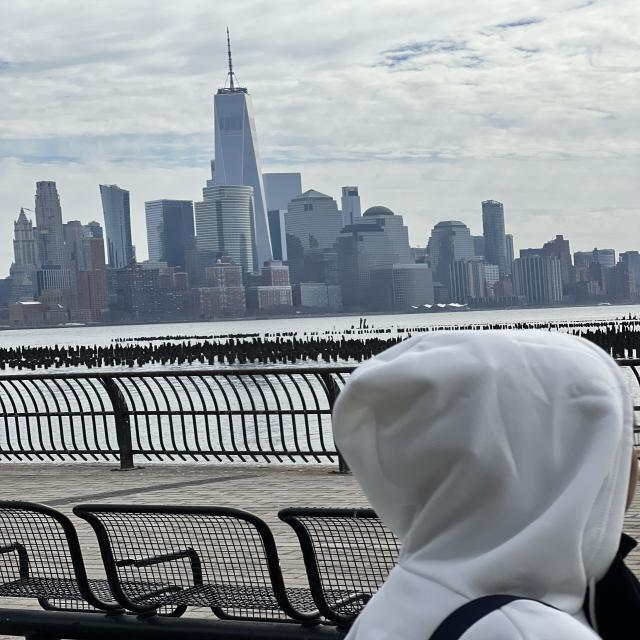WTC: (212, 28, 264, 187)
